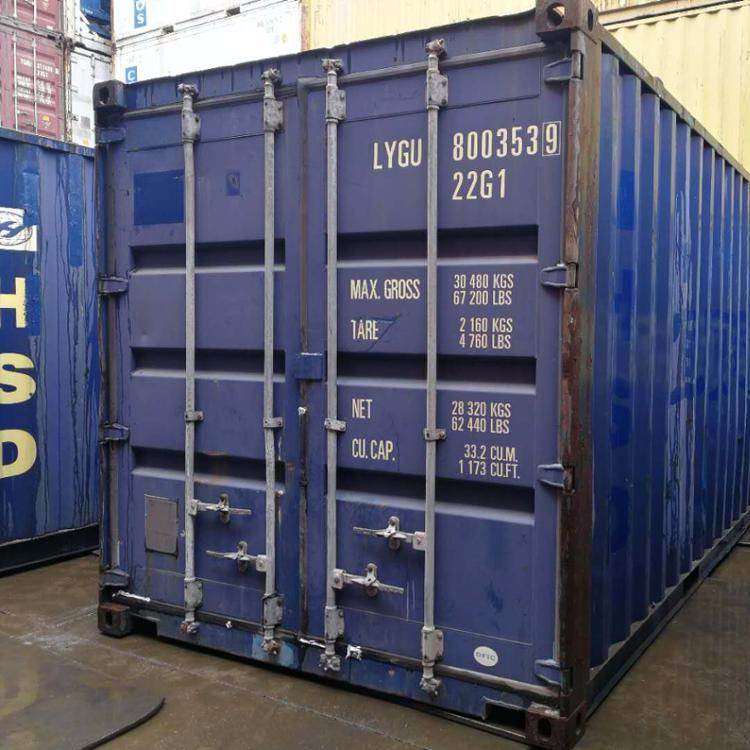ContainerNum: (368, 118, 564, 204)
